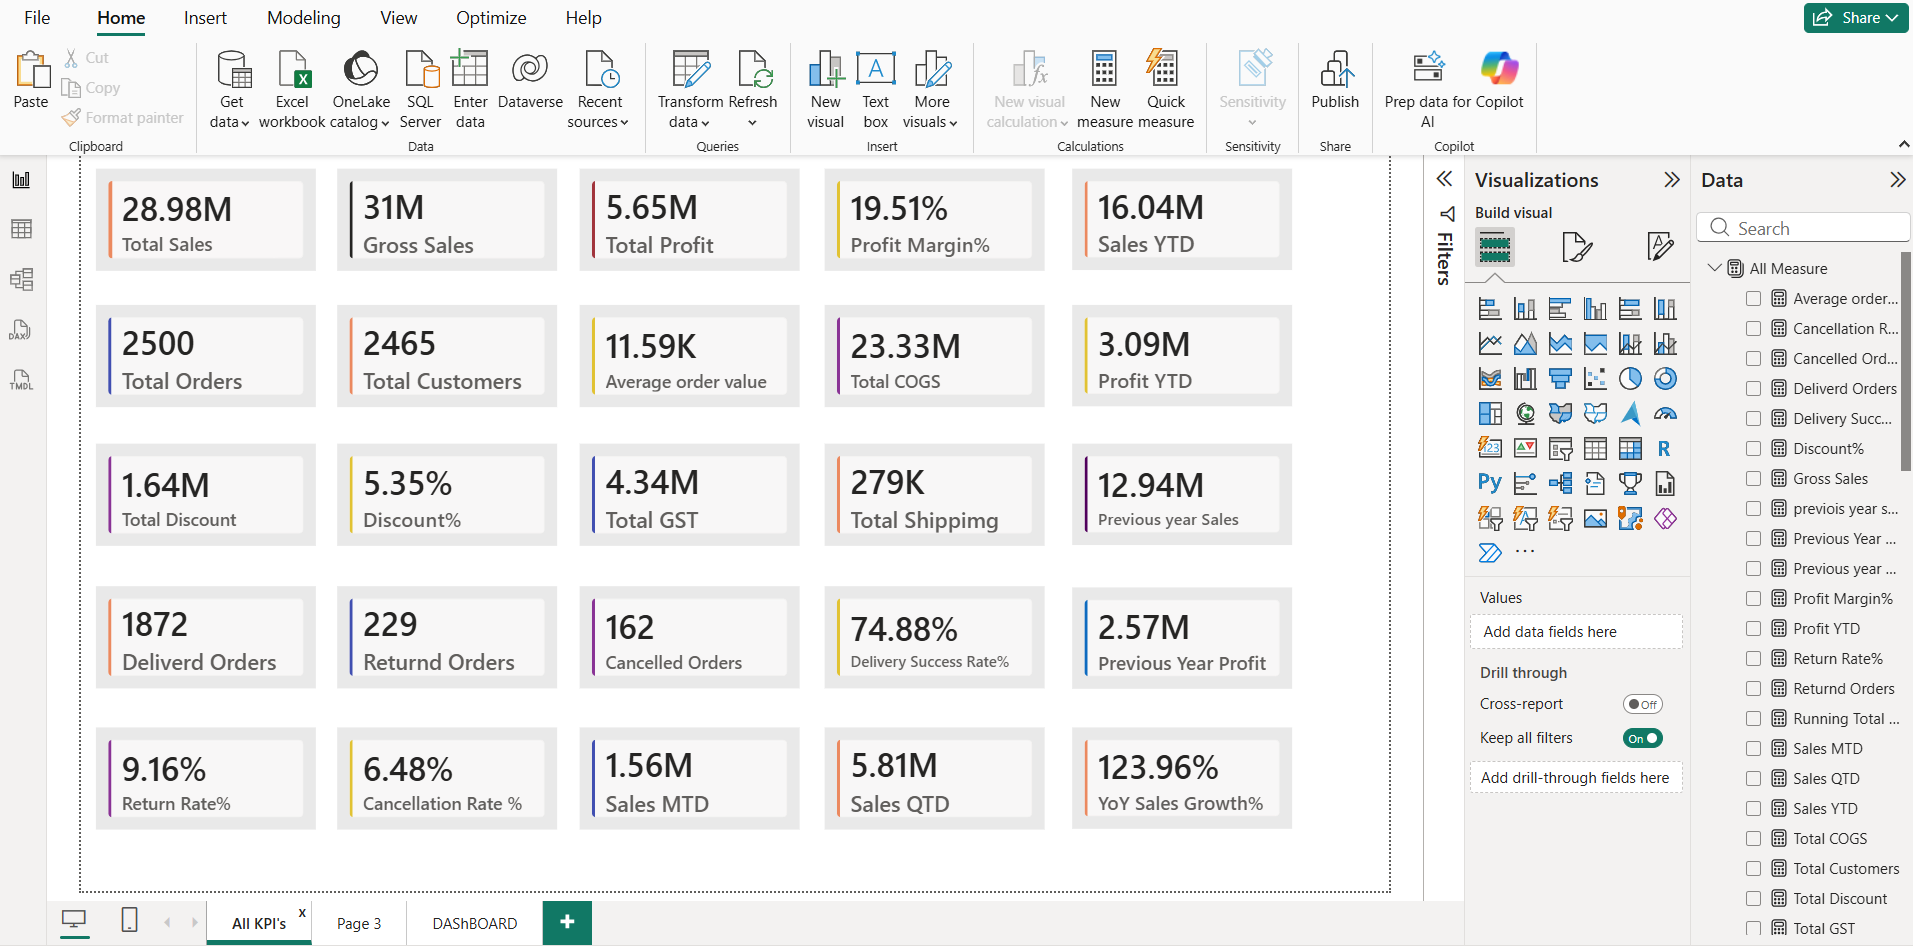

The page's visual inventory and layout, read from the dashboard file:
{"tool":"powerbi","page":{"name":"All KPI's","canvas":[1280,720],"ordinal":0},"visuals":[{"type":"cardVisual","fields":{"Data":["All Measure.Total Sales"]},"box":[10,8.8,225,110],"z":0},{"type":"cardVisual","fields":{"Data":["All Measure.Total Profit"]},"box":[482.5,8.8,225,110],"z":1000},{"type":"cardVisual","fields":{"Data":["All Measure.Total Customers"]},"box":[246.2,141.2,225,110],"z":2000},{"type":"cardVisual","fields":{"Data":["All Measure.Profit Margin%"]},"box":[722.5,8.8,225,110],"z":3000},{"type":"cardVisual","fields":{"Data":["All Measure.Total Orders"]},"box":[10,141.2,225,110],"z":4000},{"type":"cardVisual","fields":{"Data":["All Measure.Total GST"]},"box":[482.5,277.5,225,110],"z":5000},{"type":"cardVisual","fields":{"Data":["All Measure.Discount%"]},"box":[246.2,277.5,225,110],"z":6000},{"type":"cardVisual","fields":{"Data":["All Measure.Average order value"]},"box":[482.5,141.2,225,110],"z":7000},{"type":"cardVisual","fields":{"Data":["All Measure.Gross Sales"]},"box":[246.2,8.8,225,110],"z":8000},{"type":"cardVisual","fields":{"Data":["All Measure.Total Discount"]},"box":[10,277.5,225,110],"z":9000},{"type":"cardVisual","fields":{"Data":["All Measure.Cancellation Rate %"]},"box":[246.2,555,225,110],"z":10000},{"type":"cardVisual","fields":{"Data":["All Measure.Sales MTD"]},"box":[482.5,555,225,110],"z":11000},{"type":"cardVisual","fields":{"Data":["All Measure.Cancelled Orders"]},"box":[482.5,417.5,225,110],"z":12000},{"type":"cardVisual","fields":{"Data":["All Measure.Returnd Orders"]},"box":[246.2,417.5,225,110],"z":13000},{"type":"cardVisual","fields":{"Data":["All Measure.Return Rate%"]},"box":[10,555,225,110],"z":14000},{"type":"cardVisual","fields":{"Data":["All Measure.Deliverd Orders"]},"box":[10,417.5,225,110],"z":15000},{"type":"cardVisual","fields":{"Data":["All Measure.Total COGS"]},"box":[722.5,141.2,225,110],"z":16000},{"type":"cardVisual","fields":{"Data":["All Measure.Total Shippimg"]},"box":[722.5,277.5,225,110],"z":17000},{"type":"cardVisual","fields":{"Data":["All Measure.Delivery Success Rate%"]},"box":[722.5,417.5,225,110],"z":18000},{"type":"cardVisual","fields":{"Data":["All Measure.Salws QTD"]},"box":[722.5,555,225,110],"z":19000},{"type":"cardVisual","fields":{"Data":["All Measure.Sales YTD"]},"box":[964.8,8.6,225,109.8],"z":19001},{"type":"cardVisual","fields":{"Data":["All Measure.Profit YTD"]},"box":[964.8,141.8,225,109.8],"z":19002},{"type":"cardVisual","fields":{"Data":["All Measure.Previous Month Sales"]},"box":[964.8,277.6,225,109.8],"z":19003},{"type":"cardVisual","fields":{"Data":["All Measure.Previous Year Profit"]},"box":[964.8,418.2,225,109.8],"z":19004},{"type":"cardVisual","fields":{"Data":["All Measure.YoY Sales Growth%"]},"box":[964.8,555.2,225,109.8],"z":19005},{"type":"textbox","box":[1005.2,676.2,275.1,44],"z":19006}]}

Visuals, with their boxes on the page's 1280x720 design canvas (x1, y1, x2, y2). These are canvas units, not pixel positions in the 1913x946 screenshot, which may show the page scaled, cropped or inside an application window:
cardVisual - All Measure.Total Sales: bbox=[10, 9, 235, 119]
cardVisual - All Measure.Total Profit: bbox=[482, 9, 708, 119]
cardVisual - All Measure.Total Customers: bbox=[246, 141, 471, 251]
cardVisual - All Measure.Profit Margin%: bbox=[722, 9, 948, 119]
cardVisual - All Measure.Total Orders: bbox=[10, 141, 235, 251]
cardVisual - All Measure.Total GST: bbox=[482, 278, 708, 388]
cardVisual - All Measure.Discount%: bbox=[246, 278, 471, 388]
cardVisual - All Measure.Average order value: bbox=[482, 141, 708, 251]
cardVisual - All Measure.Gross Sales: bbox=[246, 9, 471, 119]
cardVisual - All Measure.Total Discount: bbox=[10, 278, 235, 388]
cardVisual - All Measure.Cancellation Rate %: bbox=[246, 555, 471, 665]
cardVisual - All Measure.Sales MTD: bbox=[482, 555, 708, 665]
cardVisual - All Measure.Cancelled Orders: bbox=[482, 418, 708, 528]
cardVisual - All Measure.Returnd Orders: bbox=[246, 418, 471, 528]
cardVisual - All Measure.Return Rate%: bbox=[10, 555, 235, 665]
cardVisual - All Measure.Deliverd Orders: bbox=[10, 418, 235, 528]
cardVisual - All Measure.Total COGS: bbox=[722, 141, 948, 251]
cardVisual - All Measure.Total Shippimg: bbox=[722, 278, 948, 388]
cardVisual - All Measure.Delivery Success Rate%: bbox=[722, 418, 948, 528]
cardVisual - All Measure.Salws QTD: bbox=[722, 555, 948, 665]
cardVisual - All Measure.Sales YTD: bbox=[965, 9, 1190, 118]
cardVisual - All Measure.Profit YTD: bbox=[965, 142, 1190, 252]
cardVisual - All Measure.Previous Month Sales: bbox=[965, 278, 1190, 387]
cardVisual - All Measure.Previous Year Profit: bbox=[965, 418, 1190, 528]
cardVisual - All Measure.YoY Sales Growth%: bbox=[965, 555, 1190, 665]
textbox: bbox=[1005, 676, 1280, 720]
